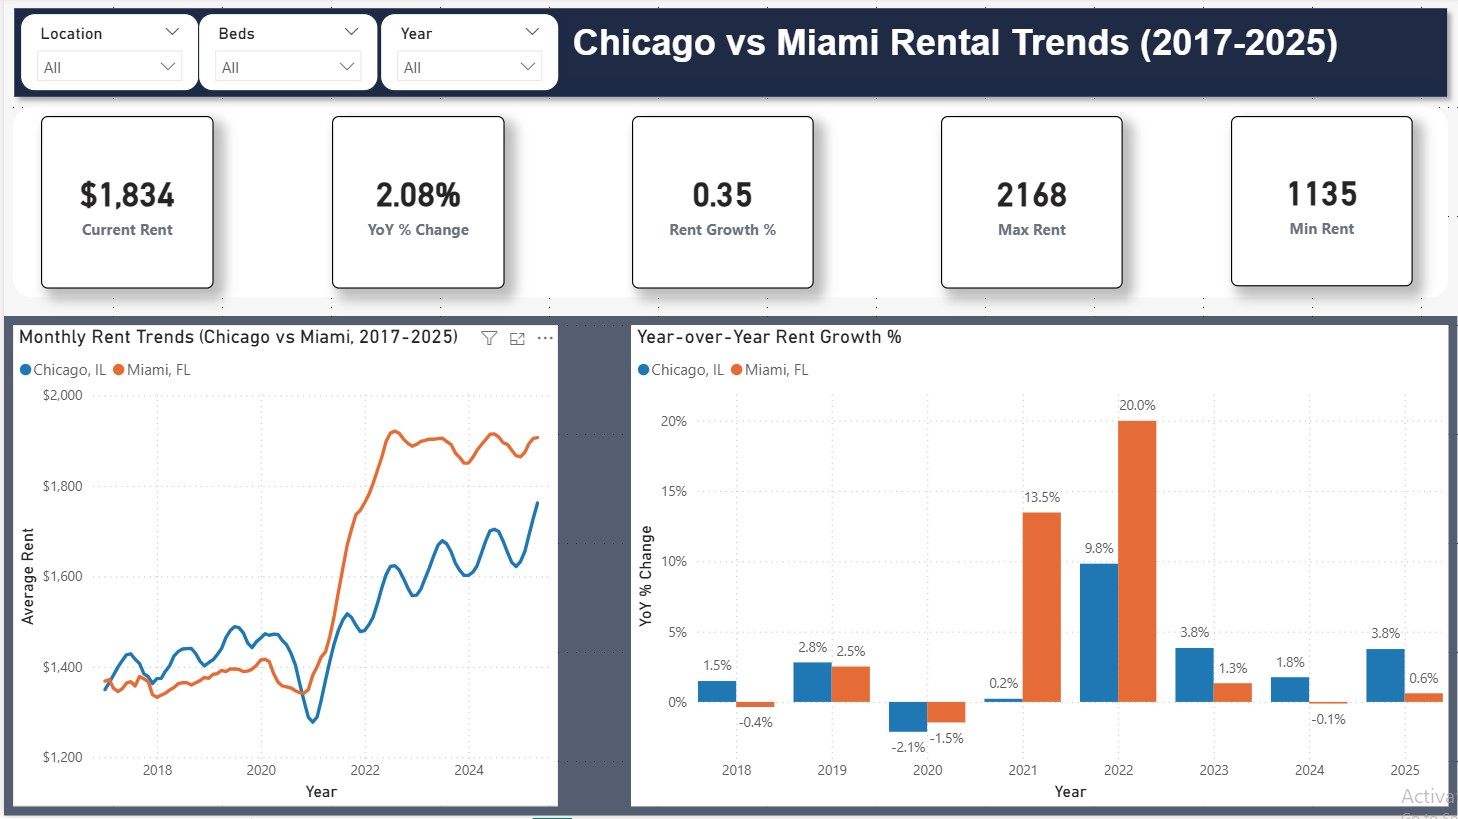

This screenshot's page, from the dashboard's own definition file:
{"tool":"powerbi","page":{"name":"Chicago vs Miami Rental Trends (2017-2025)","canvas":[1280,720],"ordinal":0},"visuals":[{"type":"shape","box":[0,280,1280,440],"z":0},{"type":"shape","box":[8,96,1264,168],"z":1000},{"type":"shape","box":[0,0,1280,96],"z":2000},{"type":"lineChart","title":"Monthly Rent Trends (Chicago vs Miami, 2017-2025)","fields":{"Category":["Date.Date"],"Y":["_Measures.Average Rent"],"Series":["Sheet1.location_name"]},"box":[8,288,480,424],"z":3000},{"type":"slicer","title":"Location","fields":{"Values":["Sheet1.location_name"]},"box":[14,13,158,69],"z":4000},{"type":"slicer","fields":{"Values":["Sheet1.bed_size"]},"box":[171,13,159,69],"z":5000},{"type":"slicer","fields":{"Values":["Date.Year"]},"box":[331,13,158,69],"z":6000},{"type":"card","fields":{"Values":["_Measures.Current Rent"]},"box":[33,104,152,152],"z":7000},{"type":"card","fields":{"Values":["_Measures.YoY % Change"]},"box":[289,104,152,152],"z":8000},{"type":"card","fields":{"Values":["_Measures.Rent Growth %"]},"box":[553,104,160,152],"z":9000},{"type":"card","fields":{"Values":["_Measures.Max Rent"]},"box":[825,104,160,152],"z":10000},{"type":"card","fields":{"Values":["_Measures.Min Rent"]},"box":[1081,104,160,150],"z":11000},{"type":"clusteredColumnChart","title":"Year-over-Year Rent Growth %","fields":{"Category":["Date.Year"],"Series":["Sheet1.location_name"],"Y":["_Measures.YoY % Change"]},"box":[552,288,720,424],"z":12000},{"type":"textbox","box":[496,16,768,56],"z":13000}]}

Visuals, with their boxes in screenshot pixels (x1, y1, x2, y2), scaled from the page's 1280x720 canvas onto the 1458x819 screenshot:
shape: left=0, top=318, right=1457, bottom=818
shape: left=9, top=109, right=1449, bottom=300
shape: left=0, top=0, right=1457, bottom=109
"Monthly Rent Trends (Chicago vs Miami, 2017-2025)" lineChart: left=9, top=328, right=556, bottom=810
"Location" slicer: left=16, top=15, right=196, bottom=93
slicer - Sheet1.bed_size: left=195, top=15, right=376, bottom=93
slicer - Date.Year: left=377, top=15, right=557, bottom=93
card - _Measures.Current Rent: left=38, top=118, right=211, bottom=291
card - _Measures.YoY % Change: left=329, top=118, right=502, bottom=291
card - _Measures.Rent Growth %: left=630, top=118, right=812, bottom=291
card - _Measures.Max Rent: left=940, top=118, right=1122, bottom=291
card - _Measures.Min Rent: left=1231, top=118, right=1414, bottom=289
"Year-over-Year Rent Growth %" clusteredColumnChart: left=629, top=328, right=1449, bottom=810
textbox: left=565, top=18, right=1440, bottom=82
